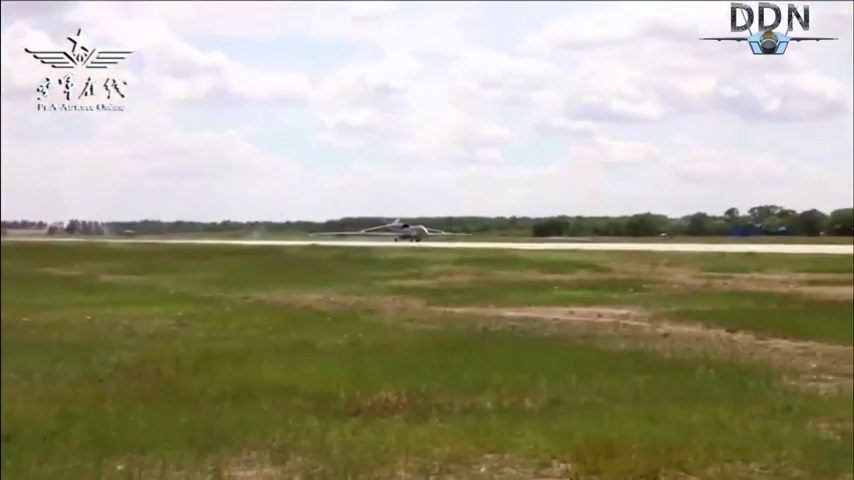military drone: (307, 216, 473, 242)
